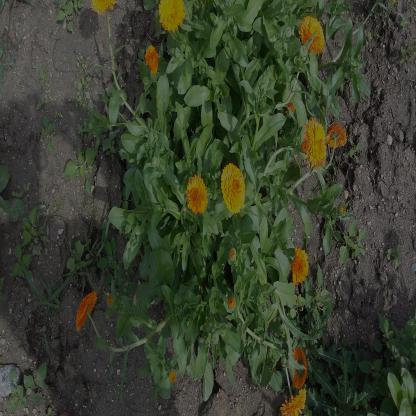marigold: (221, 164, 245, 210), (300, 15, 325, 53), (305, 120, 327, 163), (187, 174, 210, 212), (159, 0, 185, 31), (291, 246, 308, 284), (280, 391, 306, 415)
